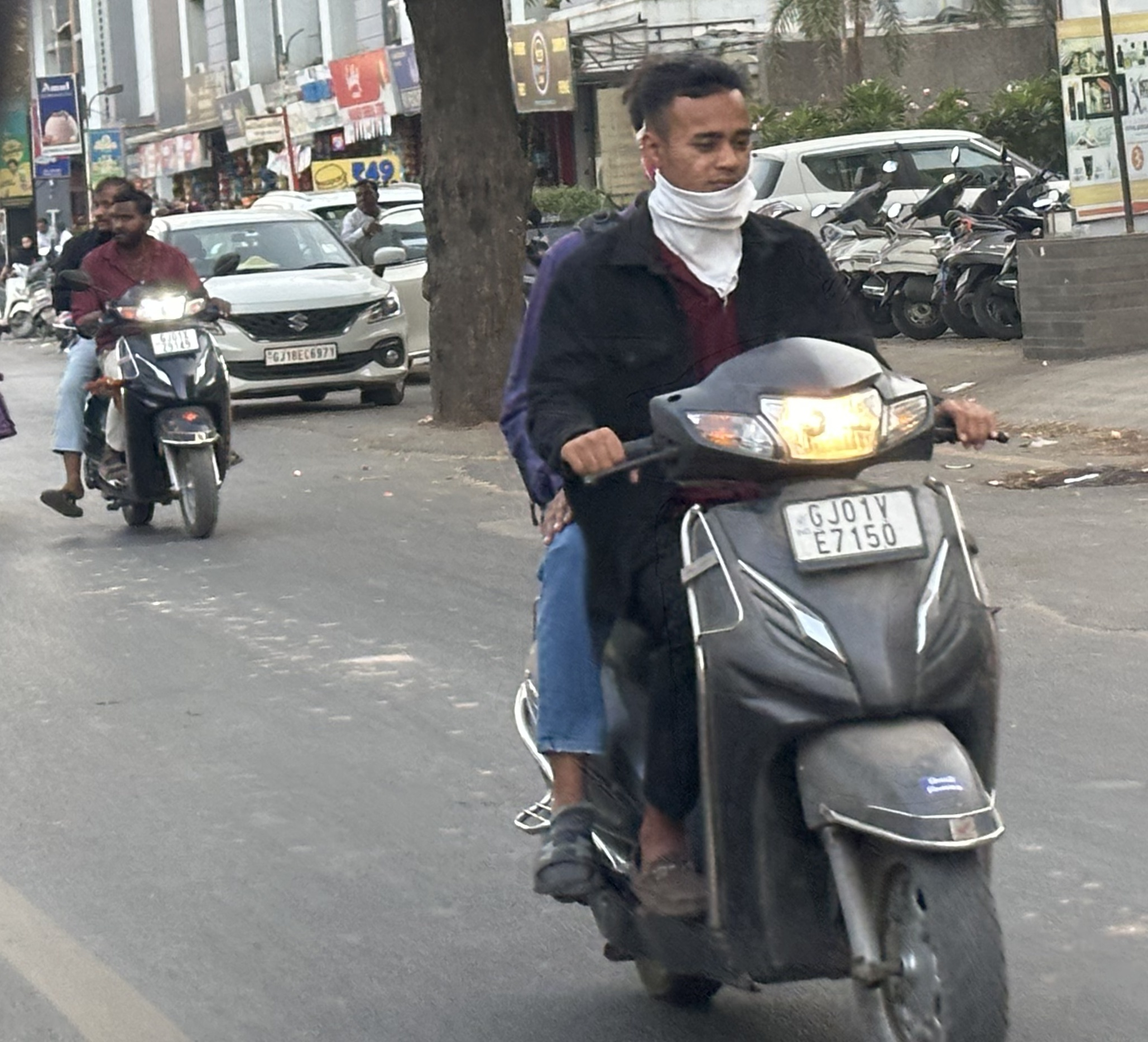BikeWithRider: (486, 41, 1040, 1041), (29, 166, 257, 548)
NoHelmet: (609, 46, 778, 234), (94, 184, 162, 253), (84, 170, 141, 237)
